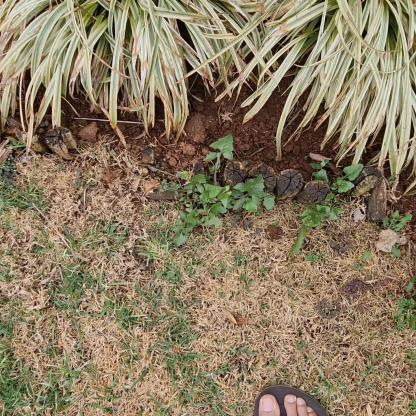Weeds: (160, 134, 275, 250), (287, 159, 364, 259), (382, 211, 413, 261), (394, 279, 415, 333)
